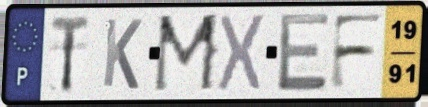E: (276, 10, 332, 95)
F: (327, 12, 387, 93)
K: (100, 16, 145, 93)
M: (151, 11, 223, 96)
T: (49, 14, 92, 96)
X: (215, 12, 268, 95)
